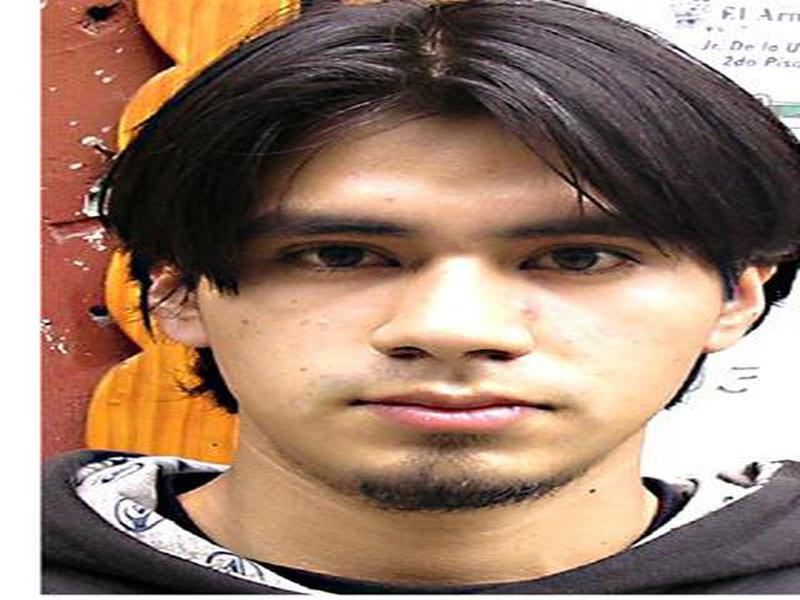without_mask: (227, 125, 682, 518)
